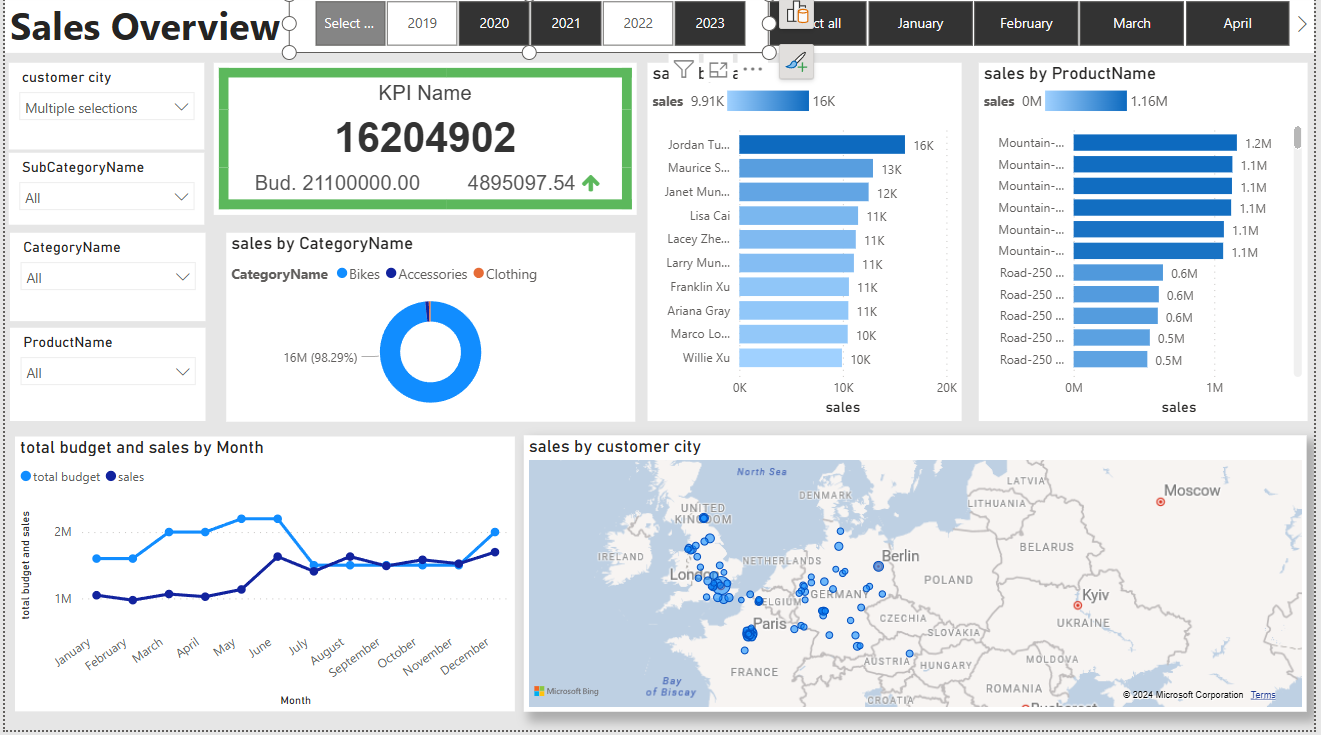

The dashboard page shown, as its layout file describes it:
{"tool":"powerbi","page":{"name":"sales","canvas":[1280,720],"ordinal":0},"visuals":[{"type":"textbox","box":[0,0,1280,57.5],"z":0},{"type":"slicer","fields":{"Values":["customer.City"]},"box":[3.8,67.5,191.2,85],"z":1000},{"type":"slicer","fields":{"Values":["product.SubCategoryName"]},"box":[3.8,155,191.2,70],"z":2000},{"type":"slicer","fields":{"Values":["product.ProductName"]},"box":[5,326.2,191.2,91.2],"z":3000},{"type":"slicer","fields":{"Values":["product.CategoryName"]},"box":[5,233.8,191.2,86.2],"z":4000},{"type":"slicer","fields":{"Values":["customer.DateFirstPurchase.Variation.Date Hierarchy.Year"]},"box":[277,0,470.3,57.6],"z":5000},{"type":"slicer","fields":{"Values":["date.Date.Variation.Date Hierarchy.Month"]},"box":[715,0,565,57.5],"z":6000},{"type":"BBED0A4D4D8D44CE93CF2DAFADEE466C","fields":{"actual":["key measurement.sales"],"target1":["key measurement.total budget"],"target2":["key measurement.sales-budget"]},"box":[203.8,67.5,413.8,148.8],"z":7000},{"type":"donutChart","fields":{"Category":["product.CategoryName"],"Y":["key measurement.sales"]},"box":[216.7,233.3,400,184.4],"z":8000},{"type":"lineChart","fields":{"Category":["date.Date.Variation.Date Hierarchy.Month"],"Y":["key measurement.total budget","key measurement.sales"]},"box":[10,432.5,488.8,268.8],"z":9000},{"type":"barChart","fields":{"Y":["key measurement.sales"],"Category":["customer.Name"]},"box":[628.8,67.5,307.5,350],"z":10000},{"type":"barChart","fields":{"Y":["key measurement.sales"],"Category":["product.ProductName"]},"box":[952.5,67.5,321.2,350],"z":11000},{"type":"map","fields":{"Category":["customer.customer city"],"Size":["key measurement.sales"]},"box":[507.8,431.1,765.6,270],"z":12000}]}

Visuals, with their boxes in screenshot pixels (x1, y1, x2, y2), scaled from the page's 1280x720 canvas onto the 1321x735 screenshot:
textbox: x1=0, y1=0, x2=1320, y2=59
slicer - customer.City: x1=4, y1=69, x2=201, y2=156
slicer - product.SubCategoryName: x1=4, y1=158, x2=201, y2=230
slicer - product.ProductName: x1=5, y1=333, x2=202, y2=426
slicer - product.CategoryName: x1=5, y1=239, x2=202, y2=327
slicer - customer.DateFirstPurchase.Variation.Date Hierarchy.Year: x1=286, y1=0, x2=771, y2=59
slicer - date.Date.Variation.Date Hierarchy.Month: x1=738, y1=0, x2=1320, y2=59
BBED0A4D4D8D44CE93CF2DAFADEE466C - key measurement.sales x key measurement.total budget: x1=210, y1=69, x2=637, y2=221
donutChart - product.CategoryName x key measurement.sales: x1=224, y1=238, x2=636, y2=426
lineChart - date.Date.Variation.Date Hierarchy.Month x key measurement.total budget: x1=10, y1=442, x2=515, y2=716
barChart - key measurement.sales x customer.Name: x1=649, y1=69, x2=966, y2=426
barChart - key measurement.sales x product.ProductName: x1=983, y1=69, x2=1314, y2=426
map - customer.customer city x key measurement.sales: x1=524, y1=440, x2=1314, y2=716
